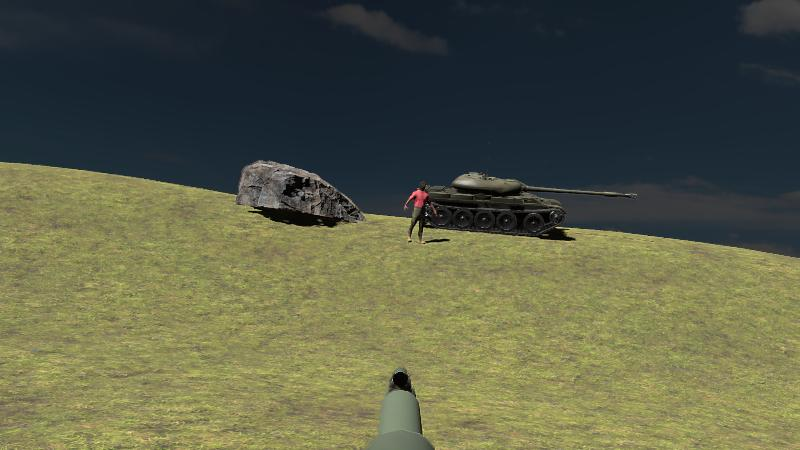Human: (405, 181, 436, 245)
Tank: (409, 171, 639, 238)
